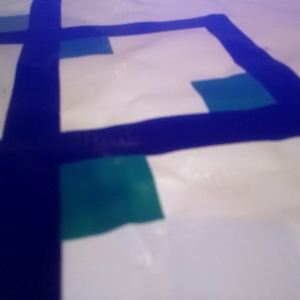bottom_right: (1, 132, 163, 239), (28, 28, 113, 58)
top_left: (191, 73, 300, 137), (1, 16, 60, 44)
